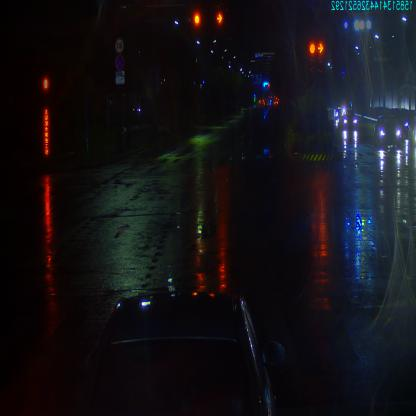traffic-light: (191, 9, 204, 33), (215, 10, 225, 28), (317, 38, 326, 56), (309, 36, 316, 58)
